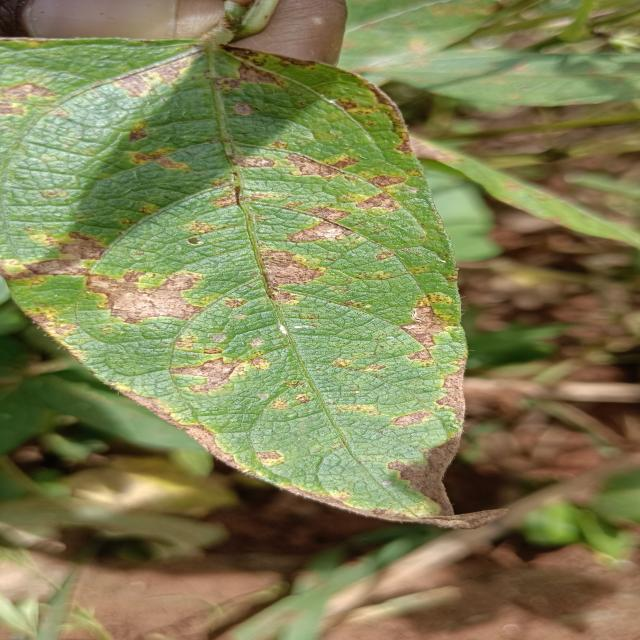Black gram_leaf spot: (0, 25, 495, 537)
